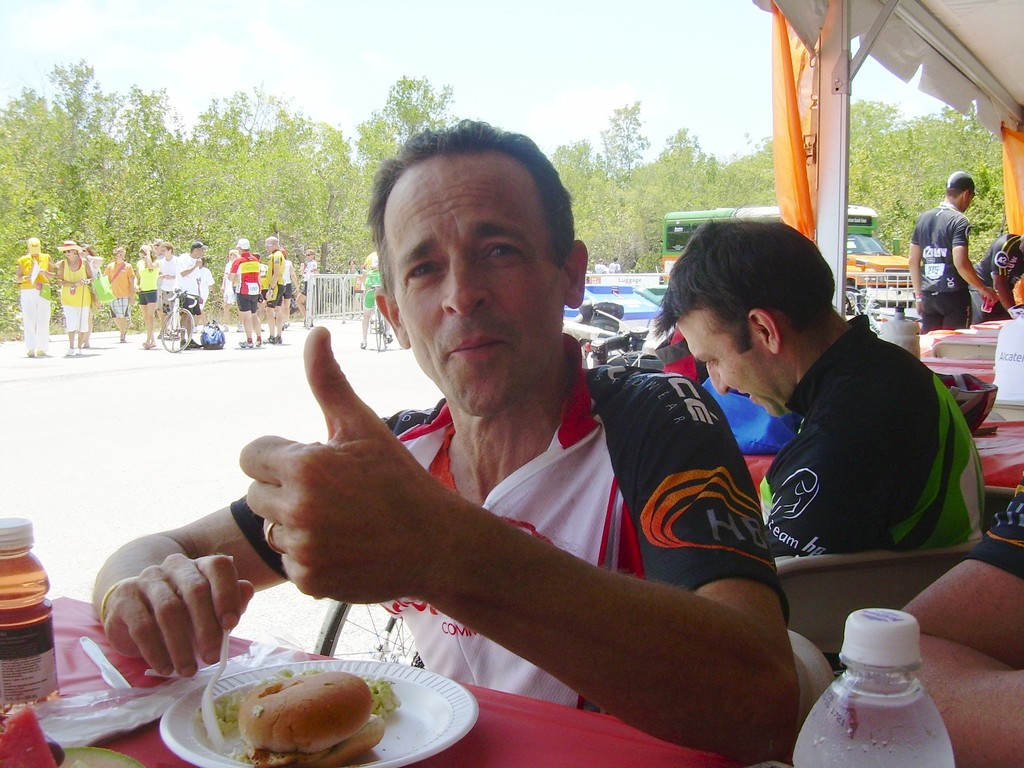Hamburger: (234, 670, 385, 767)
